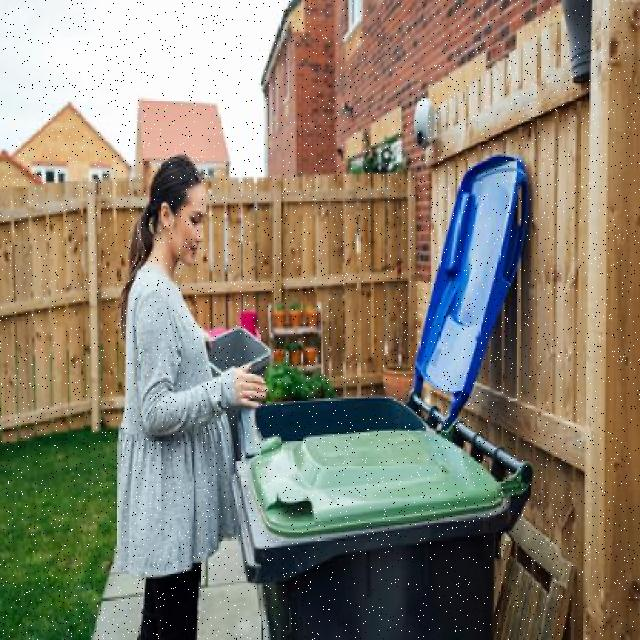garbage container: (230, 394, 538, 638)
